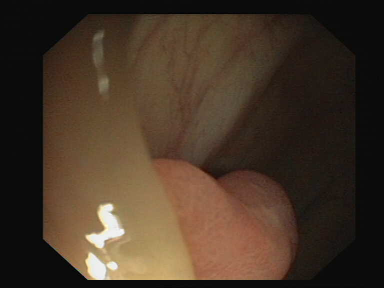polyp: (133, 119, 327, 279)
